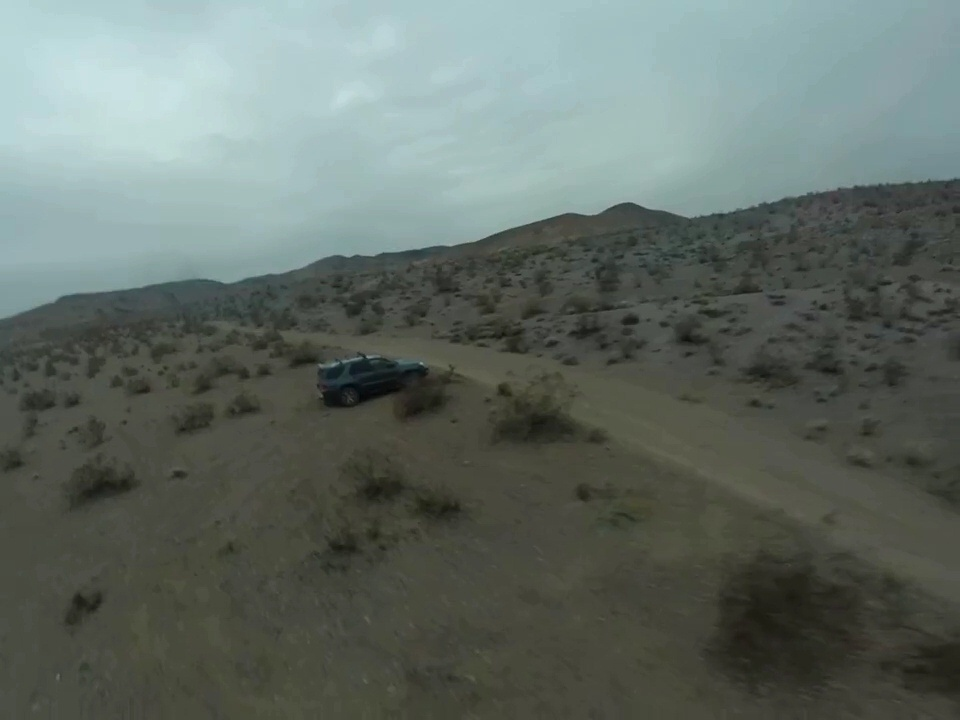araba: (314, 347, 431, 408)
